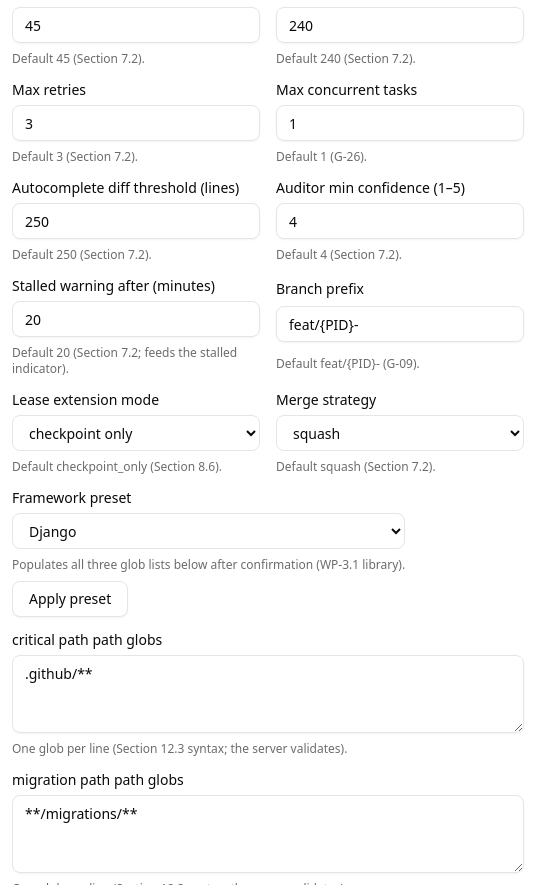
PolicyForm › rejects out-of-contract values with field errors before any request
Replace the text in the field labelled "Auditor min confidence (1–5)" with "9" at (400, 221), box [276,203,524,239]
(page scrolled)
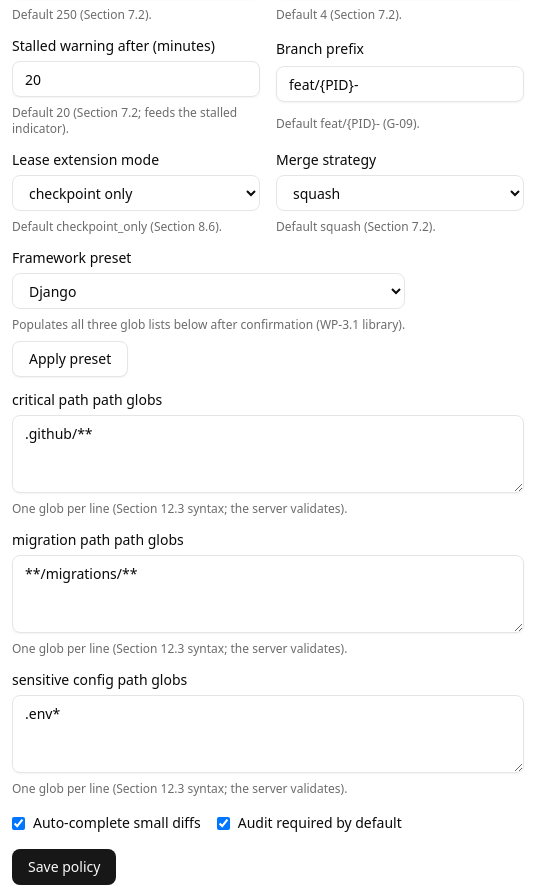
Click the button "Save policy" at (64, 867), box [12,849,116,884]
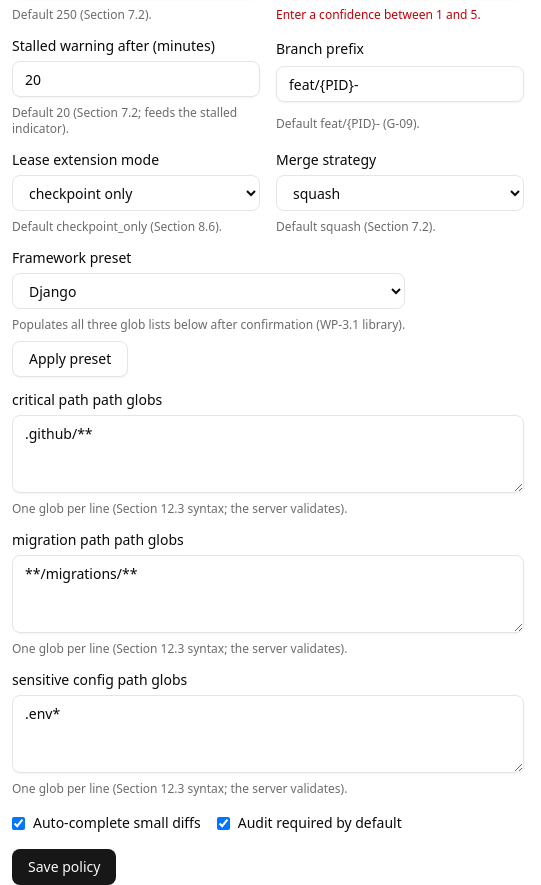
Now the text "Enter a confidence between 1 and 5." is shown, box [276,6,481,23]
